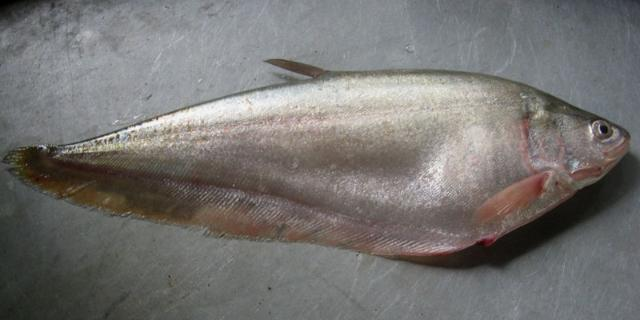Mulut: (579, 118, 639, 178)
Sirip Dada: (471, 157, 549, 241)
Sirip Punggung: (258, 52, 334, 86)
